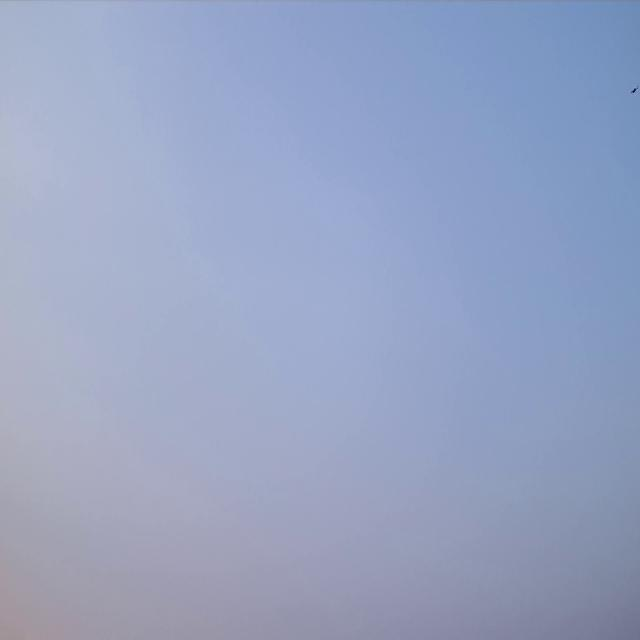UAV: (630, 85, 640, 95)
